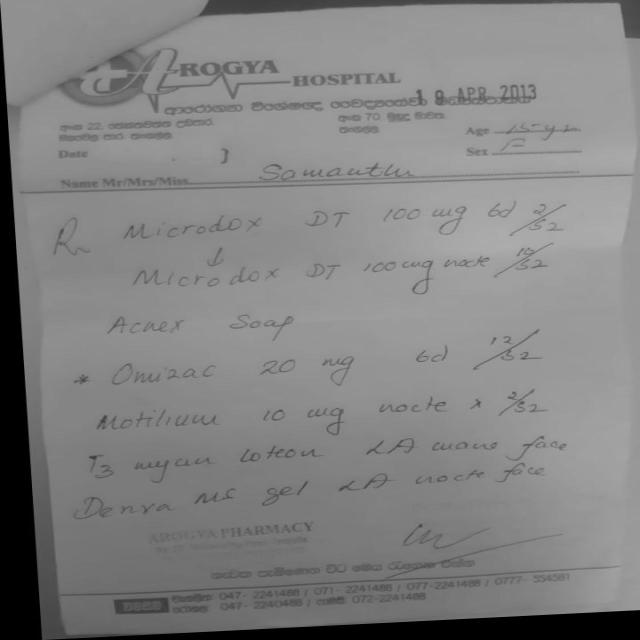Prescription: (119, 198, 567, 255), (104, 335, 541, 393), (54, 468, 487, 526), (123, 244, 553, 300), (86, 389, 544, 441), (74, 432, 501, 482), (98, 301, 298, 350)
